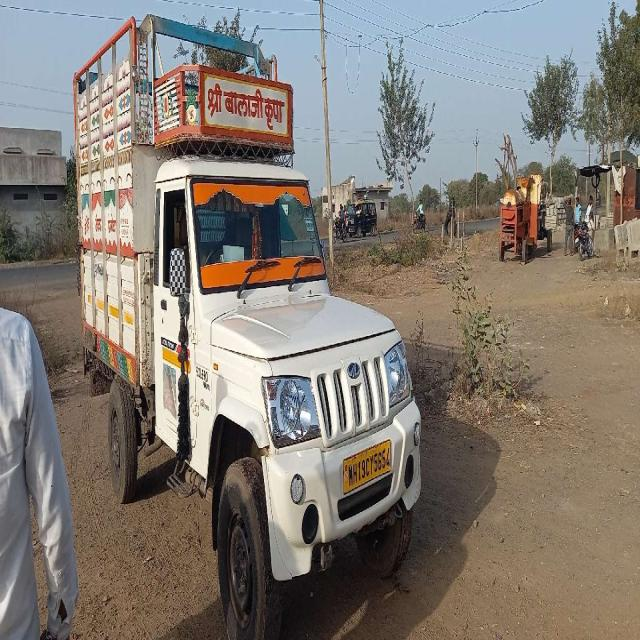light_vehicle: (76, 76, 419, 535)
